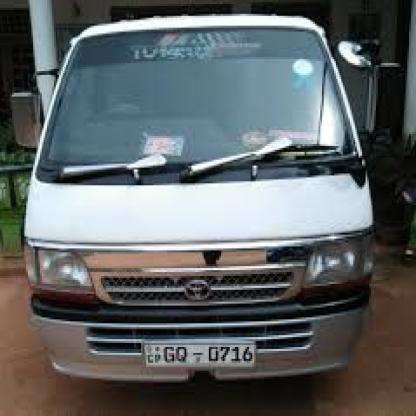number plate: (145, 342, 257, 366)
van front: (7, 9, 384, 385)
